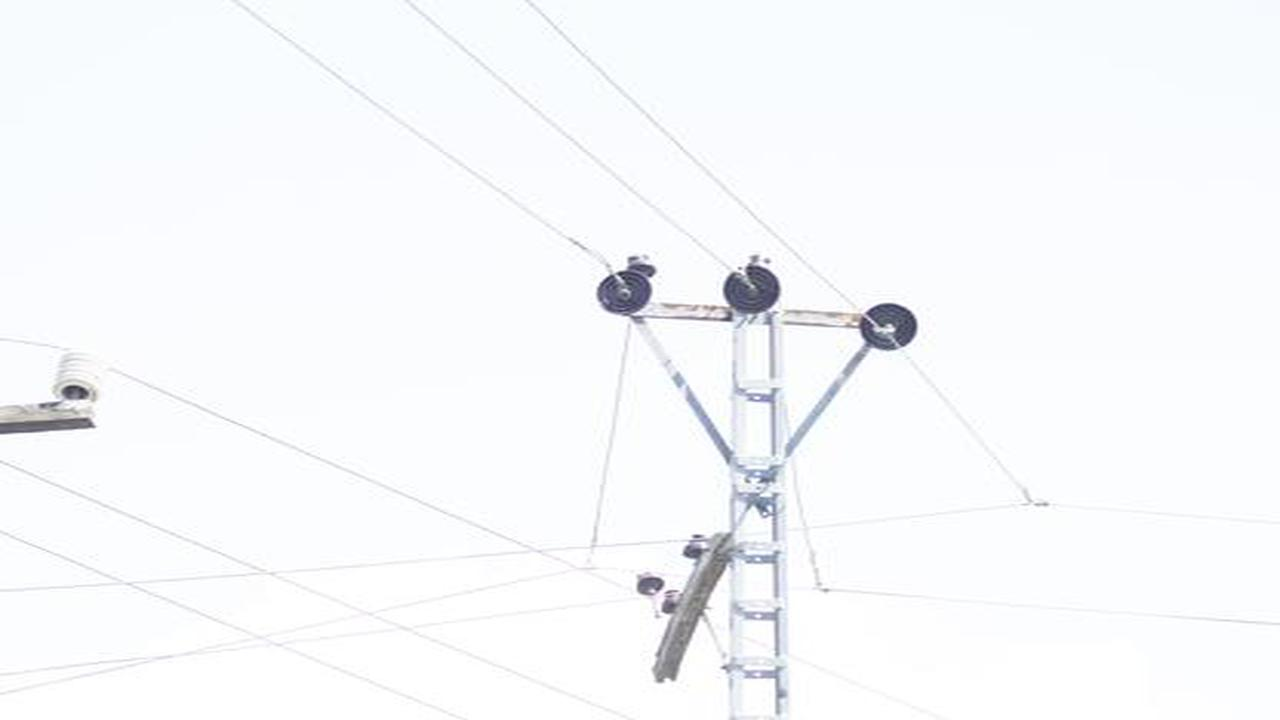insulator_disc: (859, 302, 925, 352), (721, 266, 782, 313), (592, 271, 655, 315)
insulator_pin: (627, 250, 659, 279), (633, 571, 666, 598), (680, 531, 711, 559)
